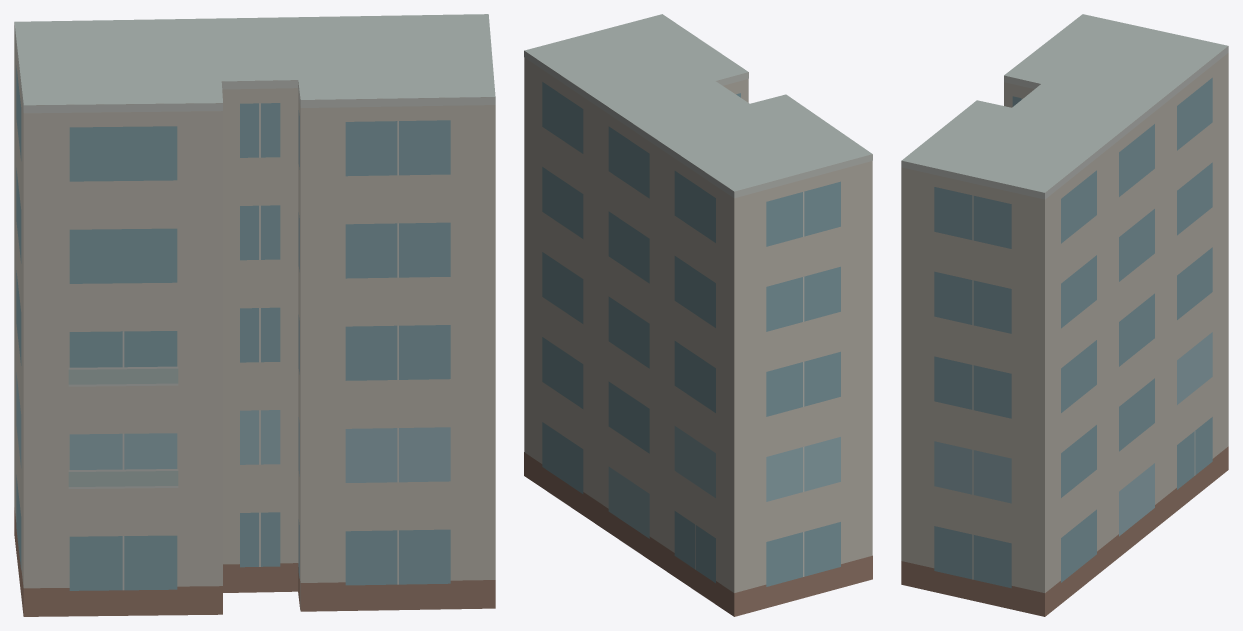
The model's file is survey-upis-32989658.glb.
3 views of the same model, side by side, from view 1: azimuth 30°, elevation 25°; view 2: azimuth 150°, elevation 25°; view 3: azimuth 270°, elevation 25° (orthographic). The views are drawn at different scales.
Parts seen in each view (by area): view 1: survey-upis-32989658.tmp; view 2: survey-upis-32989658.tmp; view 3: survey-upis-32989658.tmp.
Part boxes in pixels (x1,y1,x2,y2): survey-upis-32989658.tmp: [14, 14, 495, 616]; survey-upis-32989658.tmp: [524, 14, 872, 616]; survey-upis-32989658.tmp: [901, 14, 1228, 616].
Size of the model in its own units: 13.95 by 15.41 by 10.78.
